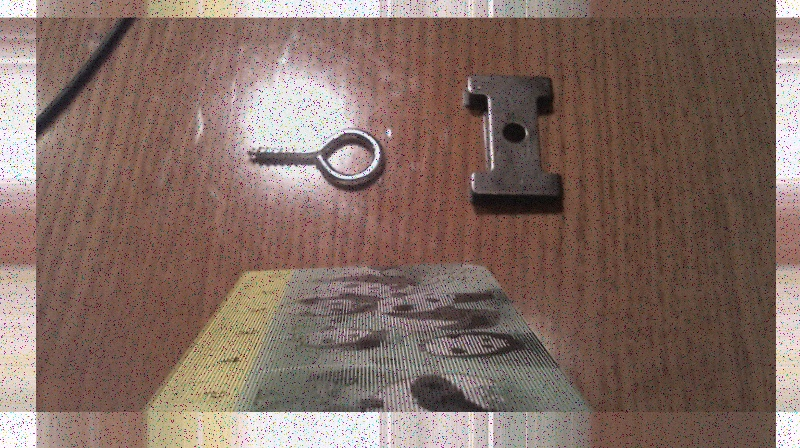O001: (242, 126, 389, 189)
O002: (463, 70, 568, 216)
